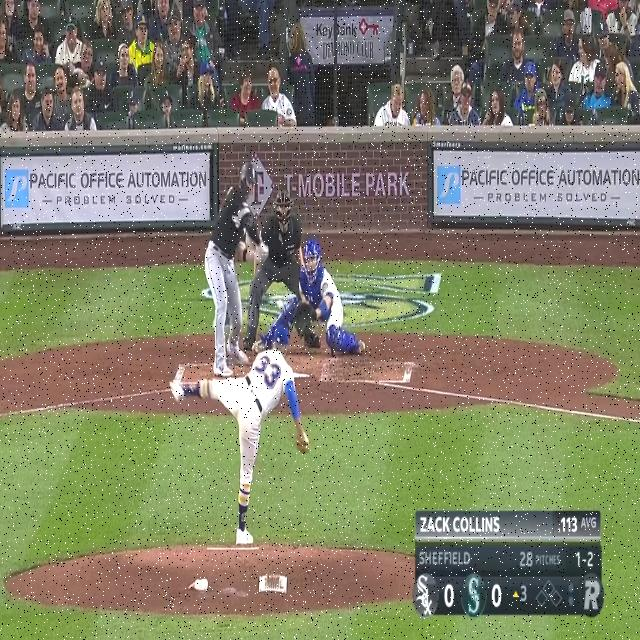baseball: (276, 297, 284, 312)
